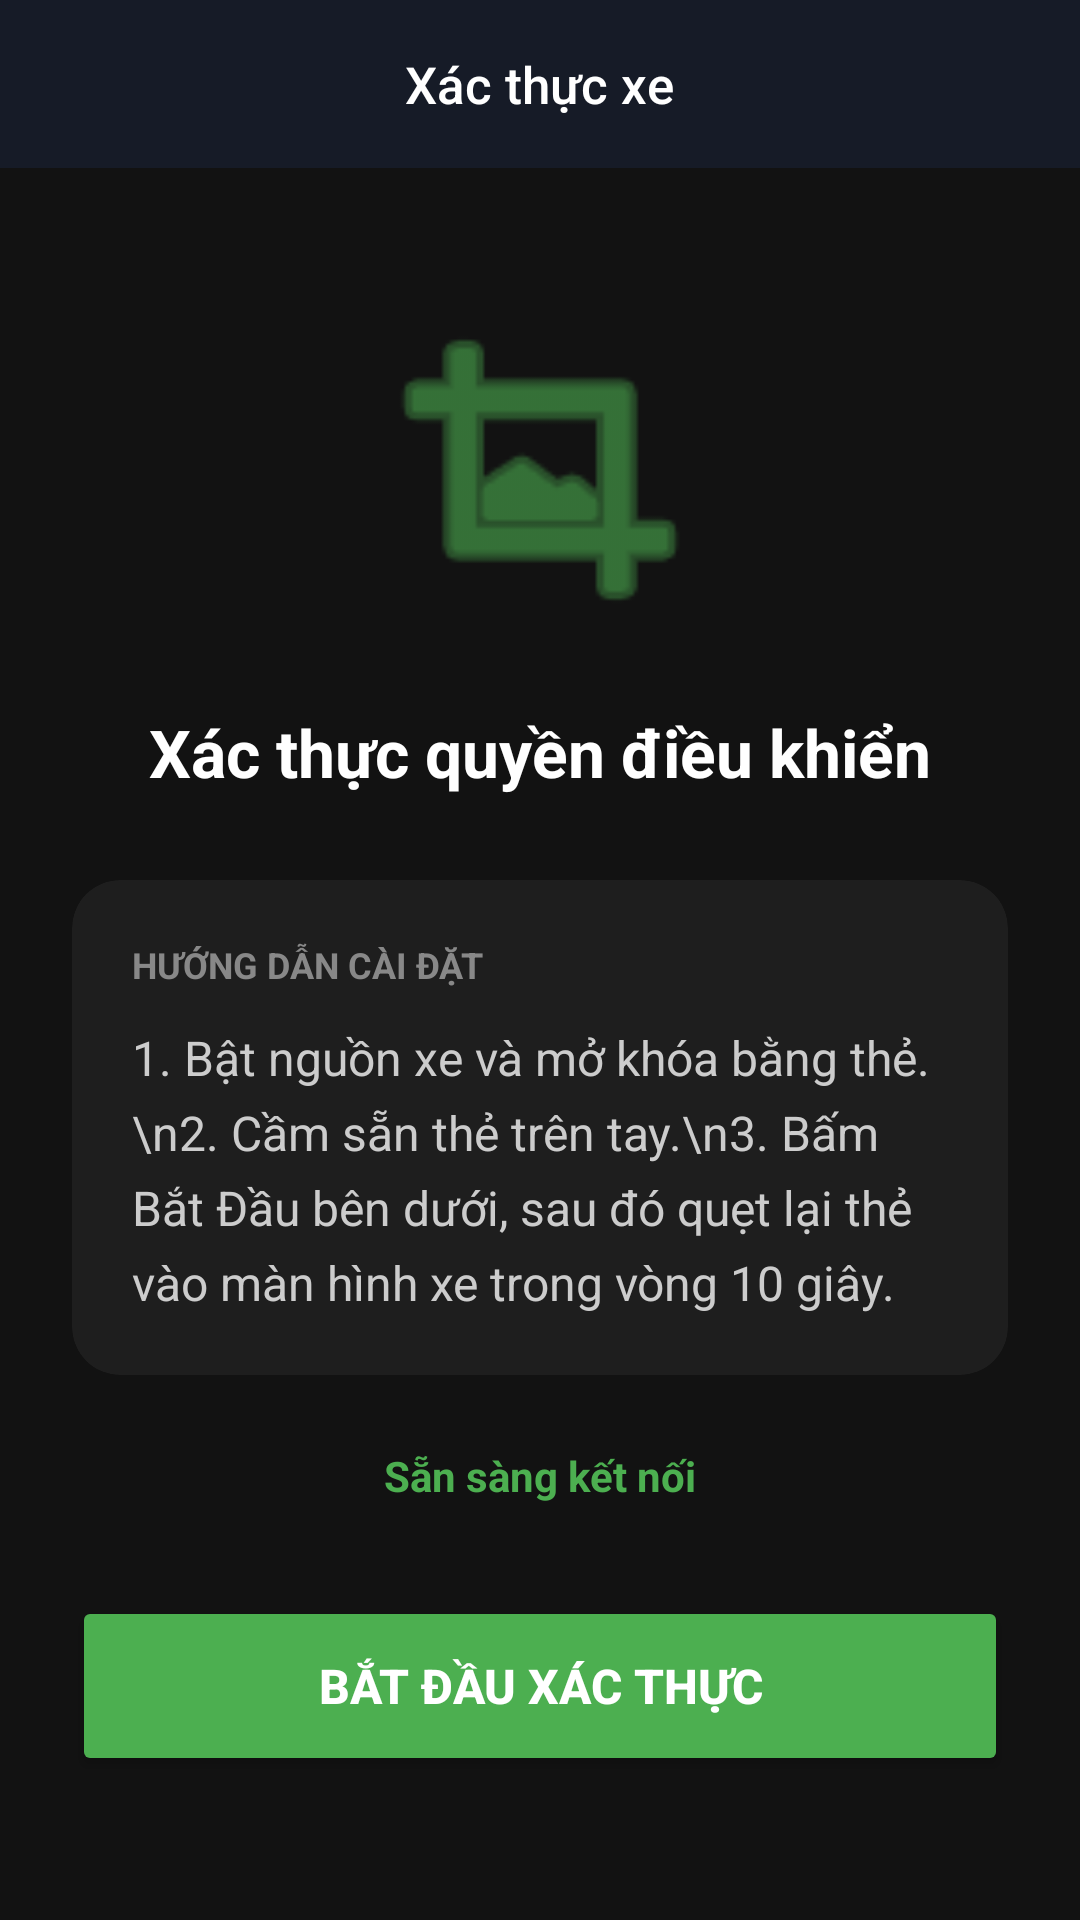

Screen size 1080px×1920px. Icon name, then its box in pixels as bbox(x1, y1, x2, y2):
crop: bbox(404, 340, 676, 600)
